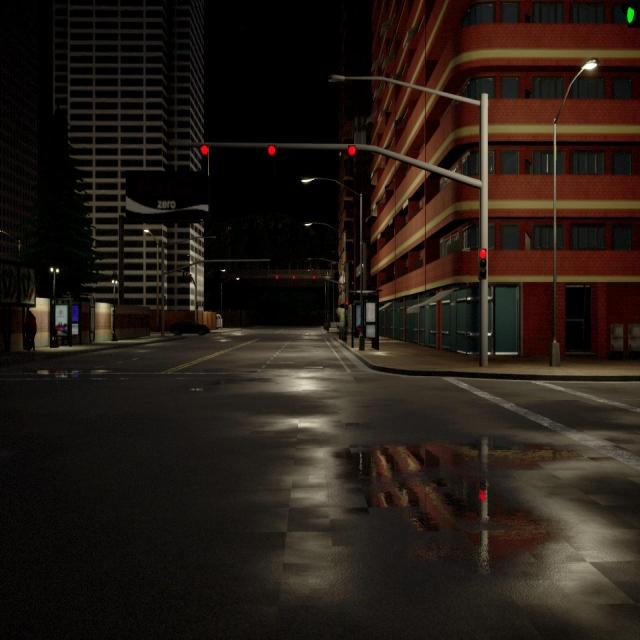Pedestrian: (23, 308, 37, 351)
Vehicle: (169, 319, 211, 336), (216, 314, 223, 329)
traffic_light: (626, 0, 640, 28), (201, 144, 209, 176), (348, 145, 356, 176), (478, 249, 486, 279), (268, 144, 275, 170), (345, 301, 348, 310), (189, 274, 192, 282), (182, 271, 185, 279), (312, 274, 316, 279), (196, 302, 198, 310), (186, 272, 188, 280), (276, 275, 278, 279), (293, 275, 295, 279)
